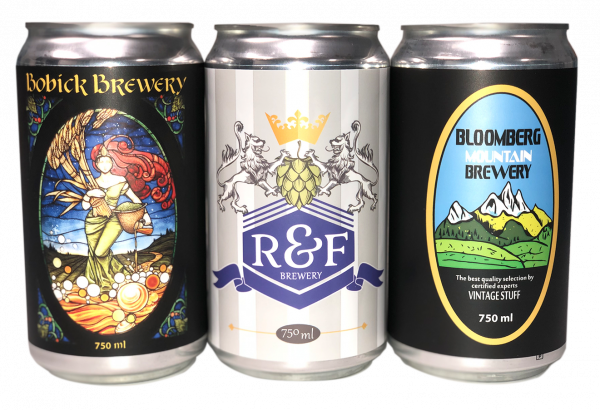beer can: (16, 21, 209, 387), (204, 23, 388, 381), (389, 25, 566, 381)
